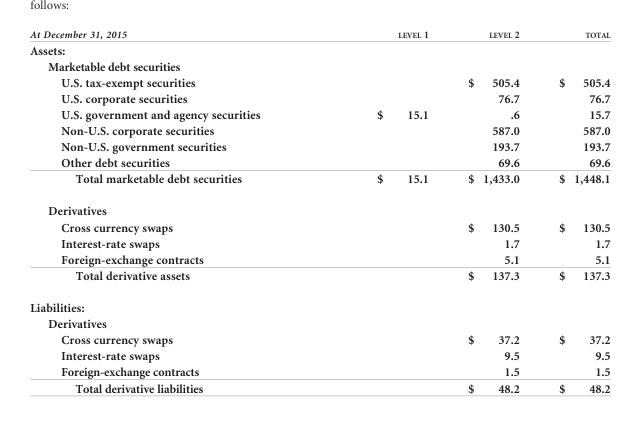table: (29, 29, 609, 394)
table column: (29, 29, 317, 394), (317, 29, 447, 394), (447, 29, 538, 394), (538, 29, 609, 394)
table column header: (29, 29, 609, 41)
table projected row header: (29, 291, 609, 316), (29, 195, 609, 219), (29, 41, 609, 58), (29, 58, 609, 74), (29, 316, 609, 332)
table row: (29, 291, 609, 316), (29, 171, 609, 195), (29, 195, 609, 219), (29, 267, 609, 291), (29, 41, 609, 58), (29, 122, 609, 139), (29, 58, 609, 74), (29, 74, 609, 90), (29, 90, 609, 106), (29, 106, 609, 122), (29, 139, 609, 155), (29, 155, 609, 171), (29, 219, 609, 235), (29, 235, 609, 251), (29, 251, 609, 267), (29, 316, 609, 332), (29, 332, 609, 348), (29, 348, 609, 364), (29, 364, 609, 380), (29, 380, 609, 394), (29, 29, 609, 41)
